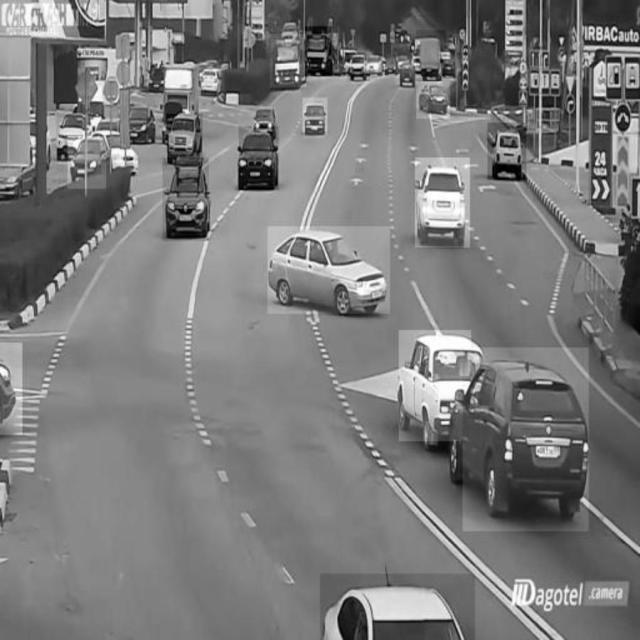vehicle: (463, 348, 589, 532), (267, 226, 389, 314), (320, 574, 474, 640), (399, 330, 471, 441), (415, 158, 471, 248), (163, 158, 209, 241), (239, 126, 279, 190), (488, 123, 526, 180), (1, 343, 23, 435), (68, 137, 106, 189), (270, 34, 306, 88), (127, 94, 155, 146), (417, 31, 447, 77), (166, 114, 202, 152), (57, 105, 83, 157), (305, 26, 332, 76), (416, 83, 450, 120), (198, 61, 225, 98), (303, 98, 328, 135), (348, 53, 370, 81), (395, 59, 415, 87)
